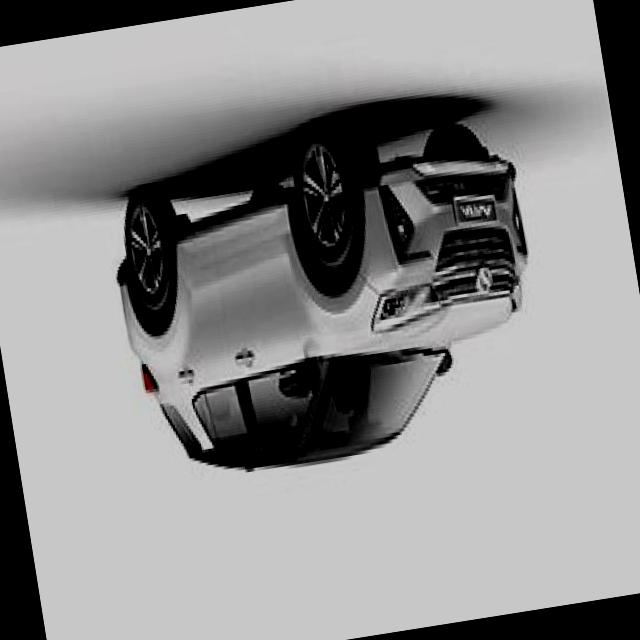PeroduaAtiva: (96, 94, 558, 498)
